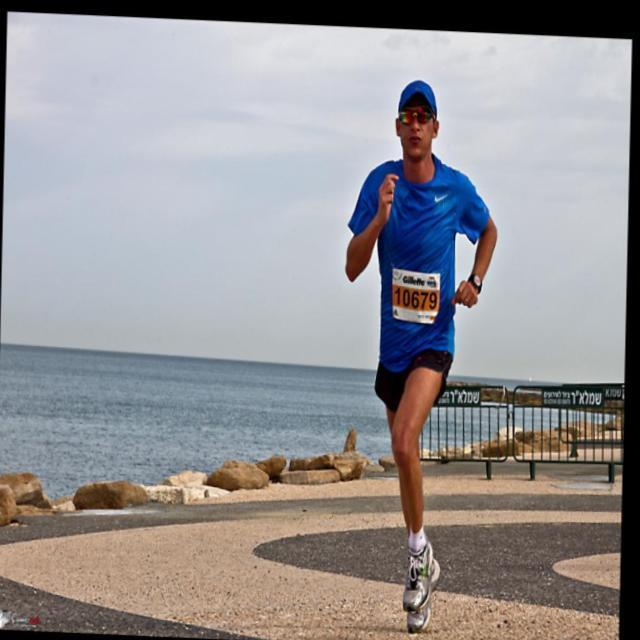dorsal: (385, 256, 454, 330)
